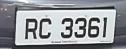1: (100, 14, 109, 40)
3: (59, 16, 75, 40), (73, 15, 88, 39)
6: (87, 15, 101, 40)
C: (37, 16, 55, 42)
R: (23, 15, 39, 43)
